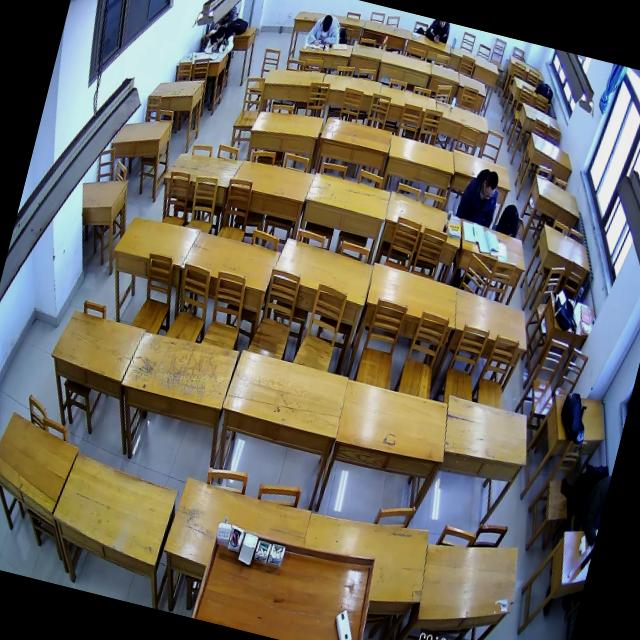bow: (306, 10, 344, 50), (202, 22, 238, 59)
down: (479, 169, 500, 201), (213, 24, 226, 44), (321, 14, 334, 34)
sit: (454, 163, 504, 228)
